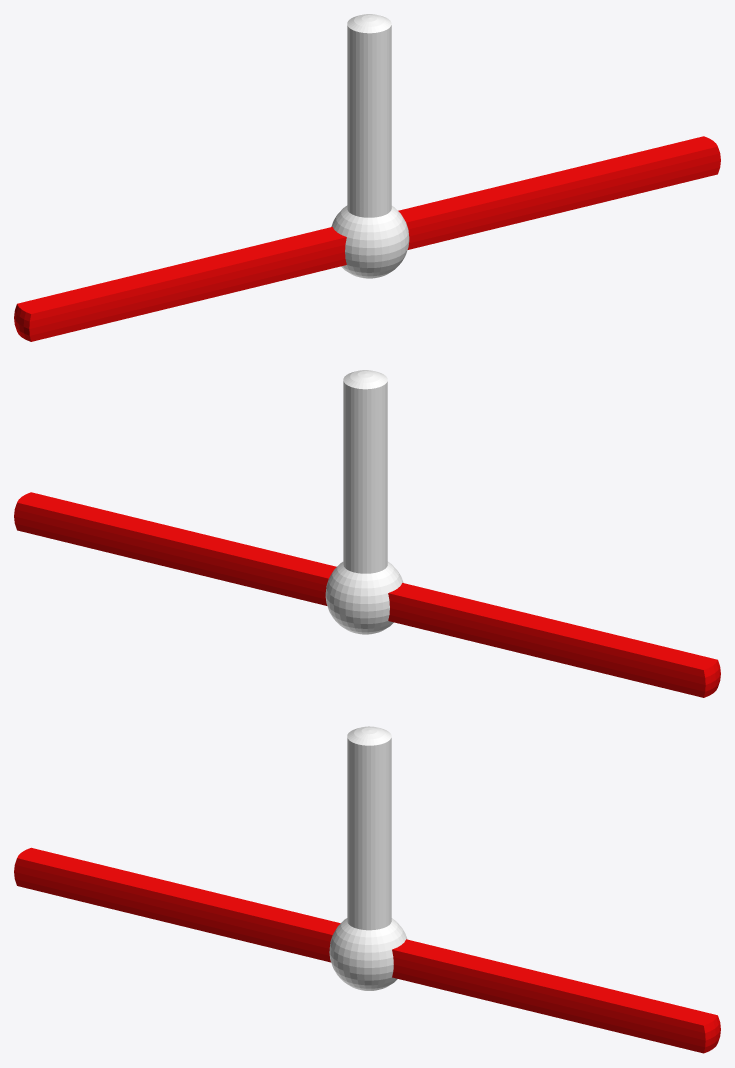
File: lazer2 (2).fbx
The picture shows the model from 3 angles, top to bottom: view 1: azimuth 30°, elevation 25°; view 2: azimuth 150°, elevation 25°; view 3: azimuth 330°, elevation 25°; orthographic projection.
Visible parts, largest first — view 1: Sphere; view 2: Sphere; view 3: Sphere.
Boxes of the visible parts, left/top/right/bottom form: Sphere: left=14, top=14, right=720, bottom=341; Sphere: left=14, top=370, right=720, bottom=697; Sphere: left=14, top=726, right=720, bottom=1053.
Size of the model in its own units: 2006 by 708 by 200.
